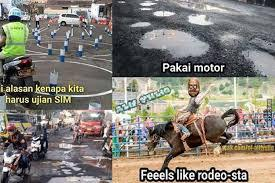Pothole: (44, 139, 110, 183), (139, 23, 211, 63), (232, 46, 275, 81), (209, 20, 248, 47), (245, 28, 275, 53), (185, 9, 219, 30), (199, 0, 233, 16), (126, 14, 152, 31), (152, 7, 177, 19), (137, 0, 160, 7), (135, 4, 158, 11), (118, 0, 132, 7)
